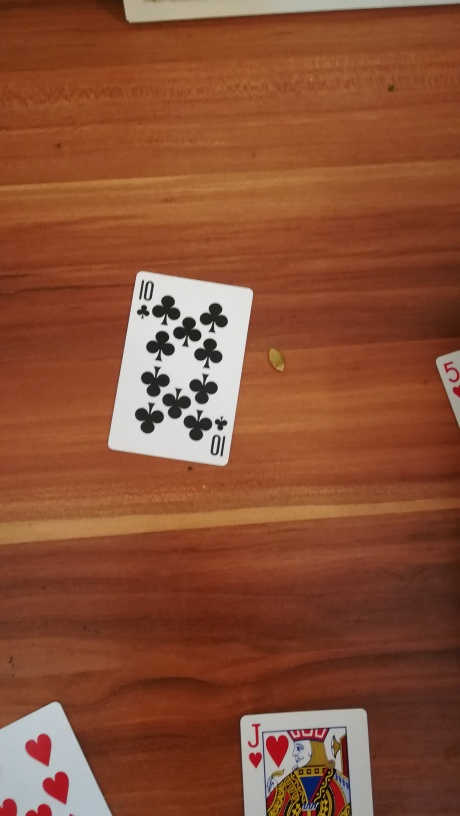hx j: (237, 705, 372, 816)
mh 10: (106, 266, 258, 470)
